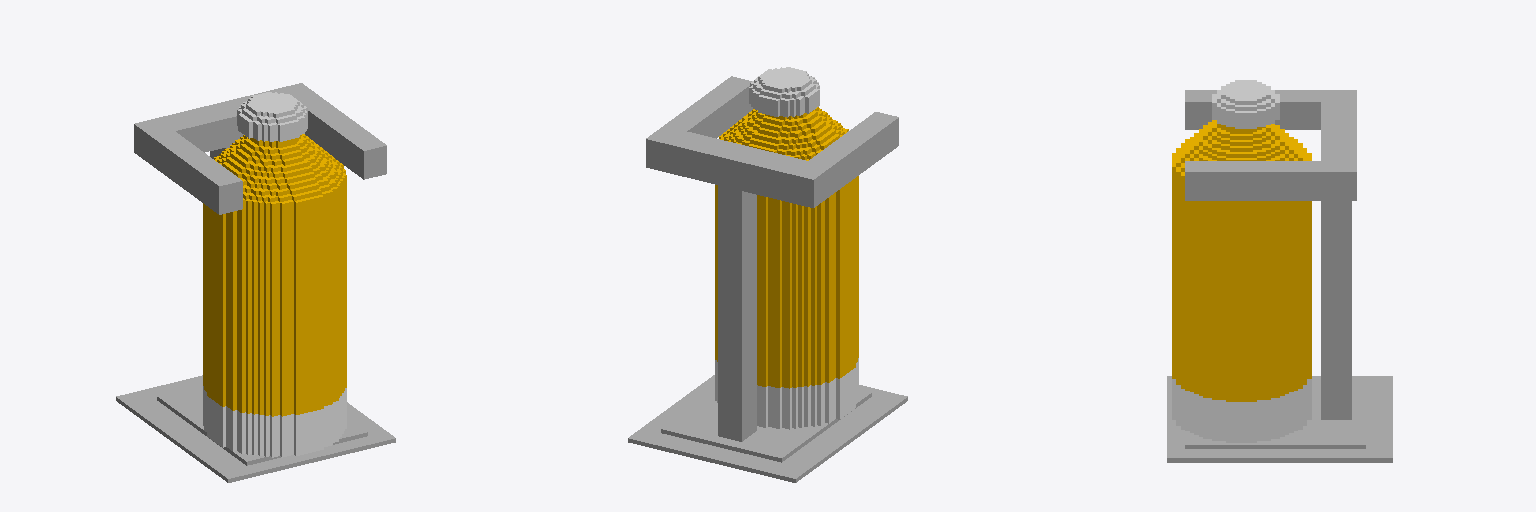
The picture shows the model from 3 angles: view 1: azimuth 30°, elevation 25°; view 2: azimuth 150°, elevation 25°; view 3: azimuth 270°, elevation 25°; orthographic projection.
Size of the model in its own units: 43 by 81 by 50.
1 materials, 1 textured.